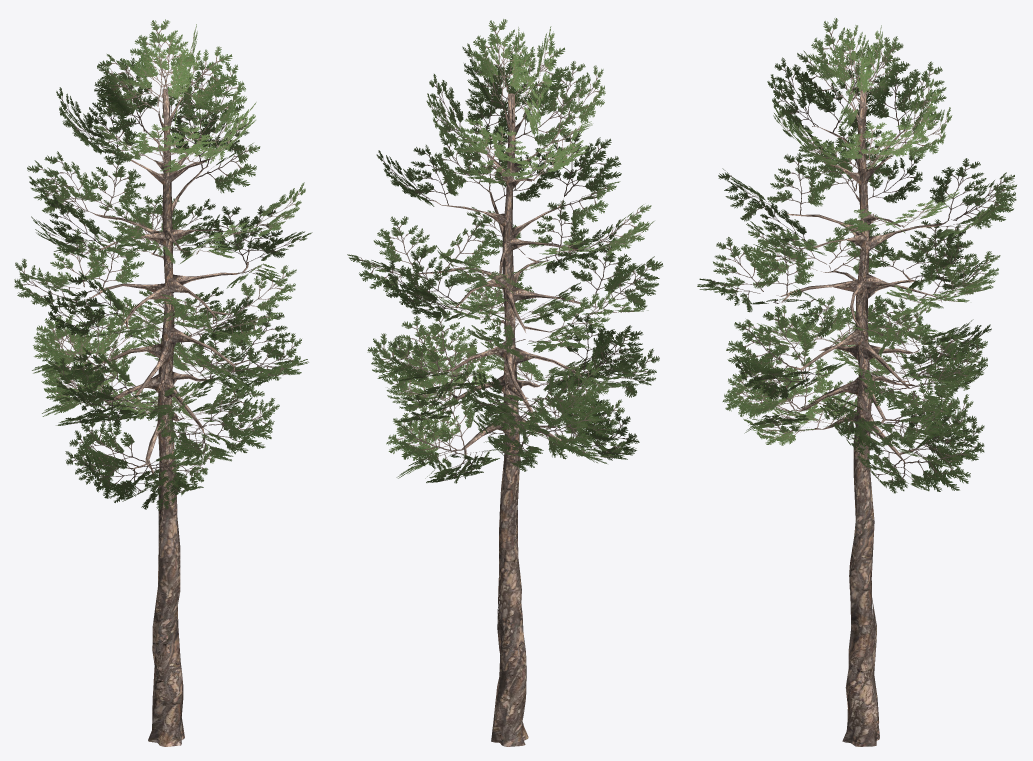
Rendered from pine-far.glb.
3 renders of one model, left to right at view 1: azimuth 30°, elevation 25°; view 2: azimuth 150°, elevation 25°; view 3: azimuth 270°, elevation 25°, orthographic.
Parts seen in each view (by area): view 1: Tree_1, Tree_0; view 2: Tree_1, Tree_0; view 3: Tree_1, Tree_0.
Part boxes in pixels (x1,y1,x2,y2): Tree_1: (14, 19, 312, 510); Tree_0: (83, 88, 252, 746); Tree_1: (347, 19, 663, 483); Tree_0: (413, 90, 597, 746); Tree_1: (697, 18, 1016, 493); Tree_0: (776, 90, 956, 746).
Bounding box in the file's own units: 2.18 × 5.32 × 2.17.
2 materials, 2 textured.
